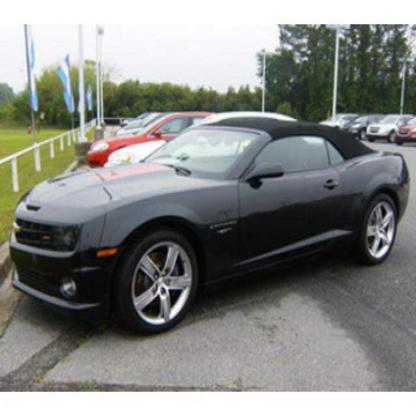Vehicle: (7, 112, 414, 341)
